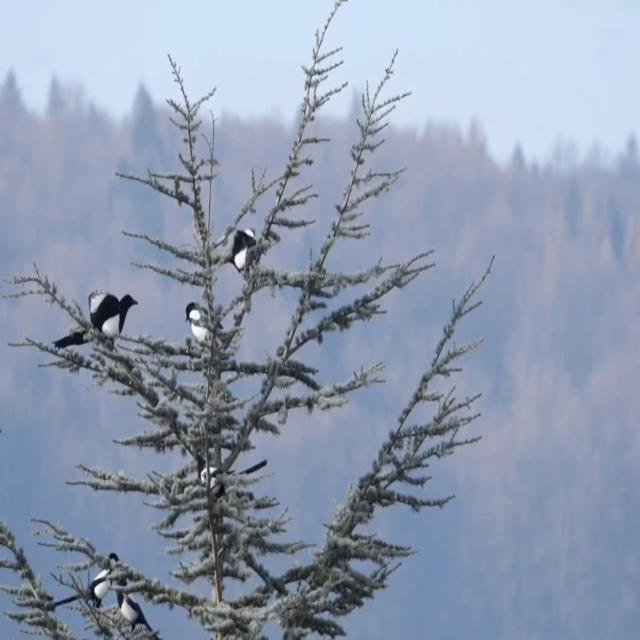bird: (50, 268, 140, 368), (182, 288, 244, 377), (205, 204, 267, 290), (55, 544, 125, 616), (184, 452, 280, 499), (112, 570, 156, 636)
